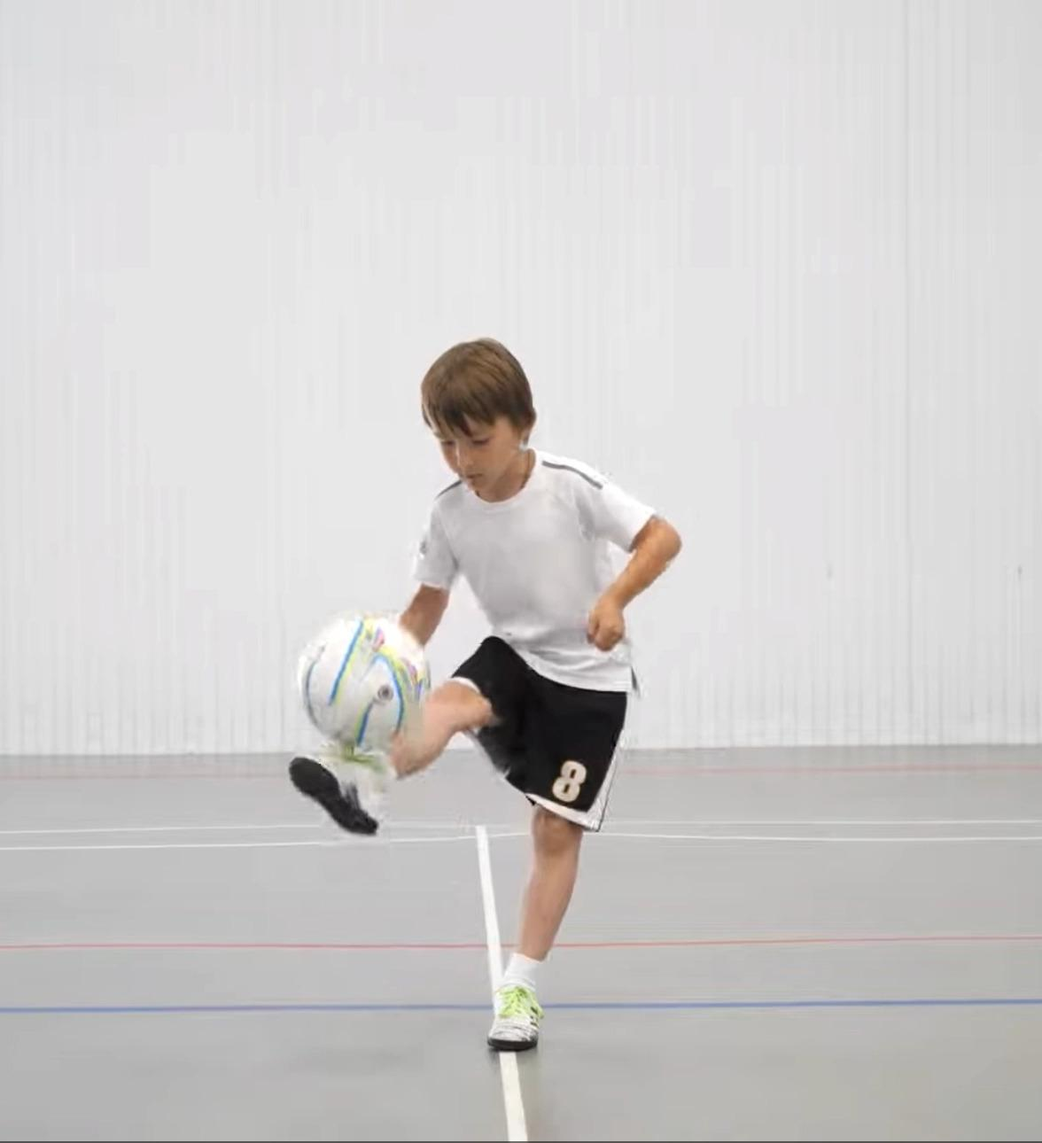ball: (301, 618, 428, 746)
foot: (282, 746, 397, 840), (484, 972, 543, 1059)
person: (285, 337, 682, 1056)
